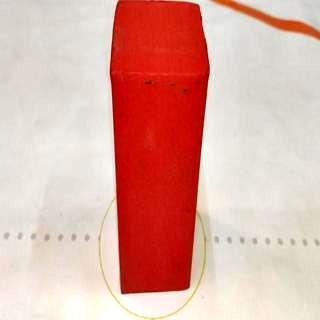redbox: (108, 1, 211, 296)
